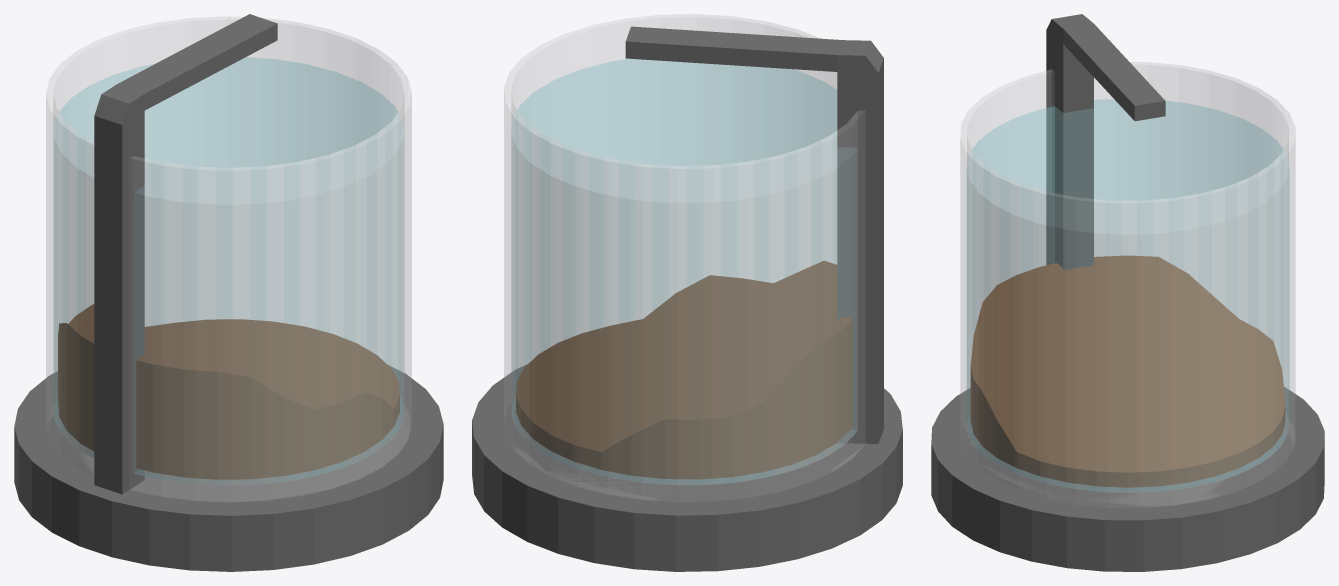
File: 250610_Aquarium_w_blue_water_light.glb
The picture shows the model from 3 angles, left to right: view 1: azimuth 30°, elevation 25°; view 2: azimuth 150°, elevation 25°; view 3: azimuth 270°, elevation 25°; orthographic projection. The views are drawn at different scales.
Parts seen in each view (by area): view 1: Glass, BlueWater, AquariumStand, BottomSoil; view 2: Glass, BlueWater, AquariumStand, BottomSoil; view 3: Glass, BlueWater, BottomSoil, AquariumStand.
Part boxes in pixels (x1=…): Glass: x1=46, y1=16, x2=411, y2=501; BlueWater: x1=54, y1=57, x2=403, y2=485; AquariumStand: x1=14, y1=14, x2=443, y2=571; BottomSoil: x1=58, y1=304, x2=399, y2=479; Glass: x1=504, y1=14, x2=864, y2=501; BlueWater: x1=511, y1=59, x2=856, y2=484; AquariumStand: x1=472, y1=26, x2=902, y2=571; BottomSoil: x1=516, y1=260, x2=852, y2=479; Glass: x1=960, y1=62, x2=1295, y2=507; BlueWater: x1=967, y1=99, x2=1288, y2=492; BottomSoil: x1=970, y1=255, x2=1285, y2=487; AquariumStand: x1=931, y1=14, x2=1324, y2=571.
Bounding box in the file's own units: 0.4667 × 0.5321 × 0.4667.
